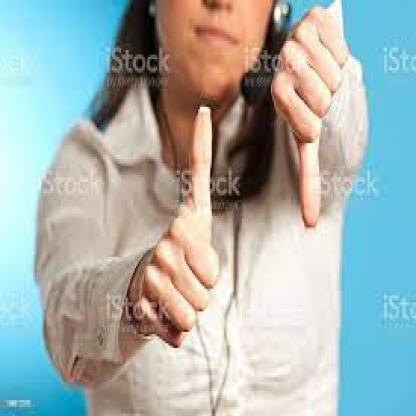thumb_down: (270, 1, 353, 237)
thumb_up: (132, 96, 226, 350)
